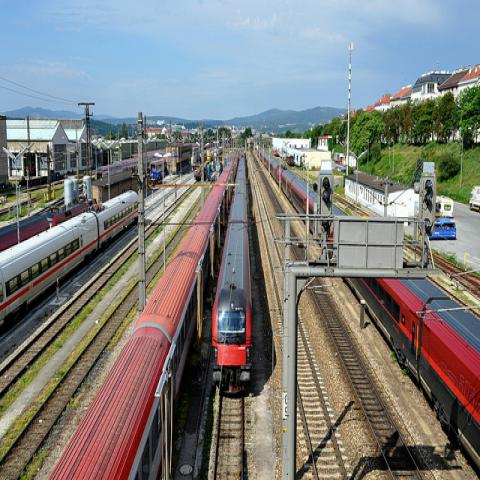bus: (431, 216, 457, 240)
truck: (469, 185, 479, 214)
